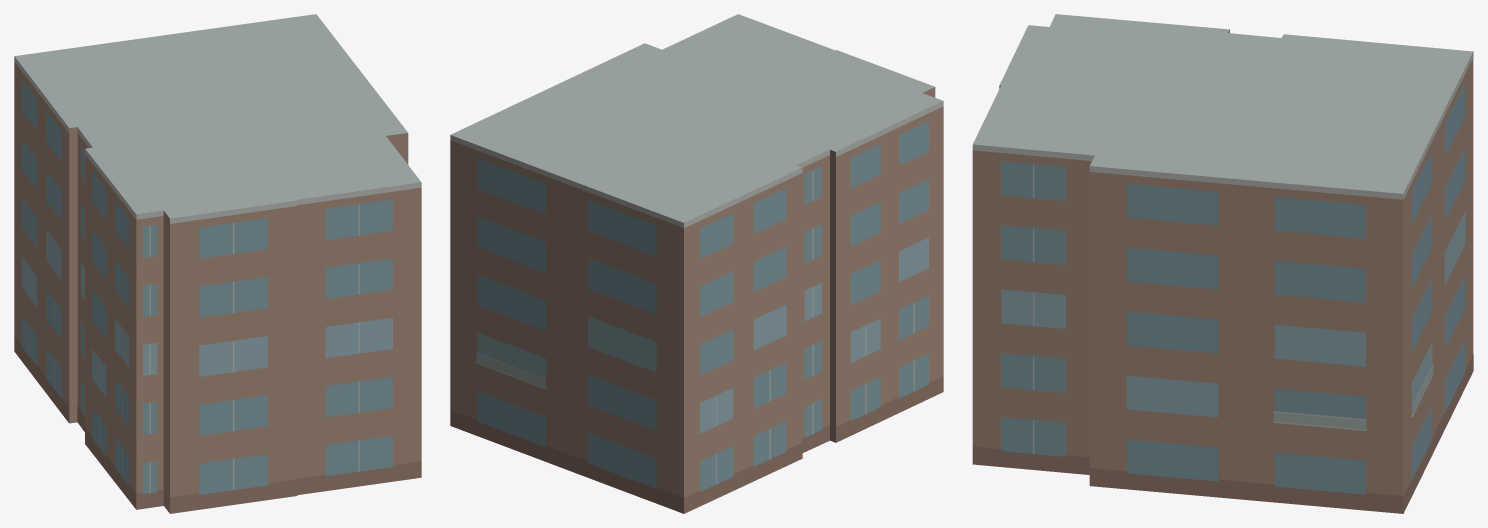
Rendered from survey-upis-32666141.glb.
The picture shows the model from 3 angles, left to right: view 1: azimuth 30°, elevation 25°; view 2: azimuth 150°, elevation 25°; view 3: azimuth 270°, elevation 25°; orthographic projection. The views are drawn at different scales.
Visible parts, largest first — view 1: survey-upis-32666141.tmp; view 2: survey-upis-32666141.tmp; view 3: survey-upis-32666141.tmp.
Part boxes in pixels (left/top/right/bottom): survey-upis-32666141.tmp: left=14, top=14, right=421, bottom=513; survey-upis-32666141.tmp: left=450, top=14, right=943, bottom=513; survey-upis-32666141.tmp: left=972, top=14, right=1473, bottom=513.
Size of the model in its own units: 16.17 by 13.4 by 19.02.
